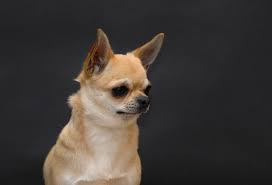chihuahua: (35, 22, 172, 181)
